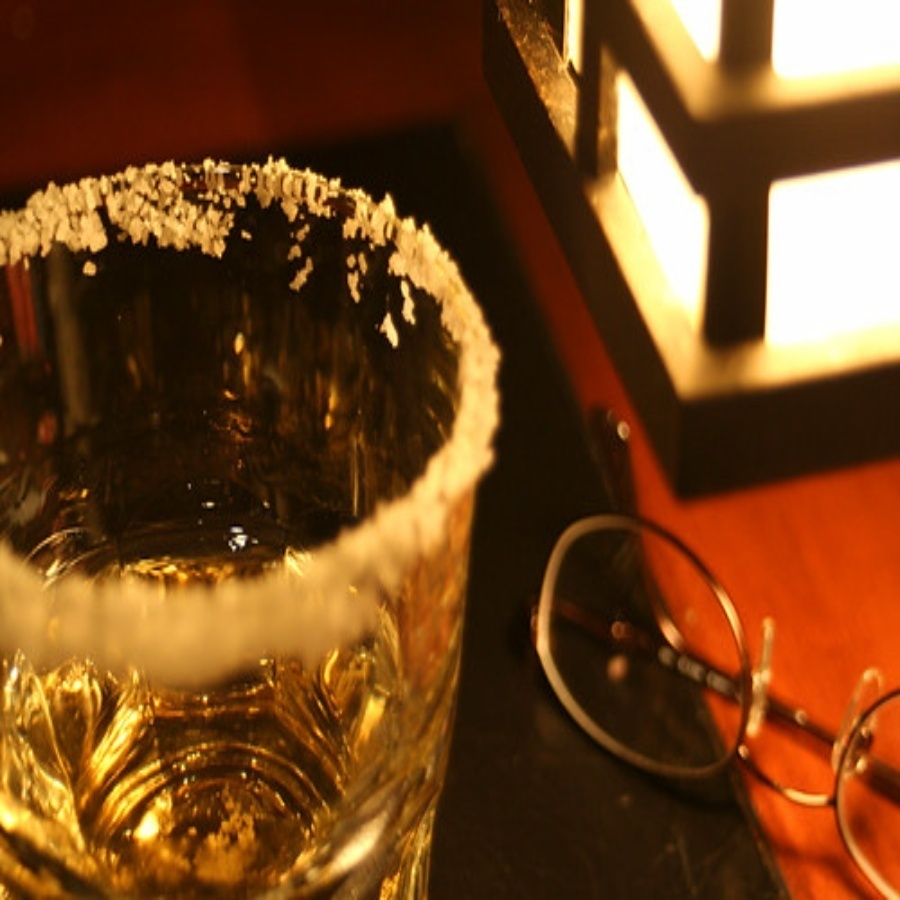whiskey: (1, 148, 489, 889)
